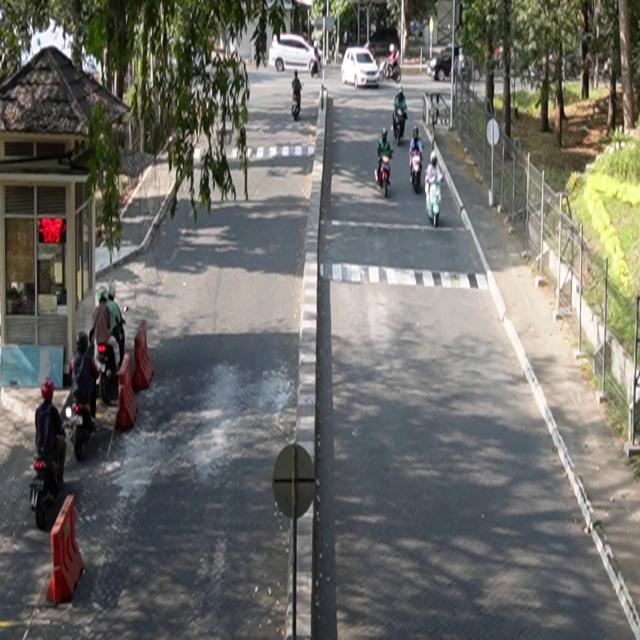car: (269, 34, 323, 75), (342, 47, 381, 89)
